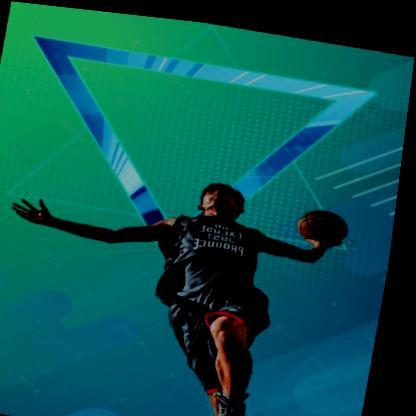basketball: (301, 199, 355, 235)
